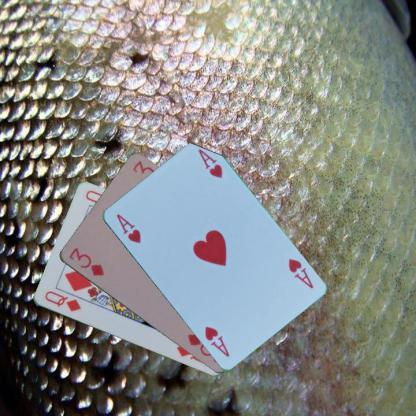3d: (66, 244, 106, 278)
Ah: (285, 255, 314, 290), (113, 211, 142, 245)
Qd: (42, 288, 82, 313)
